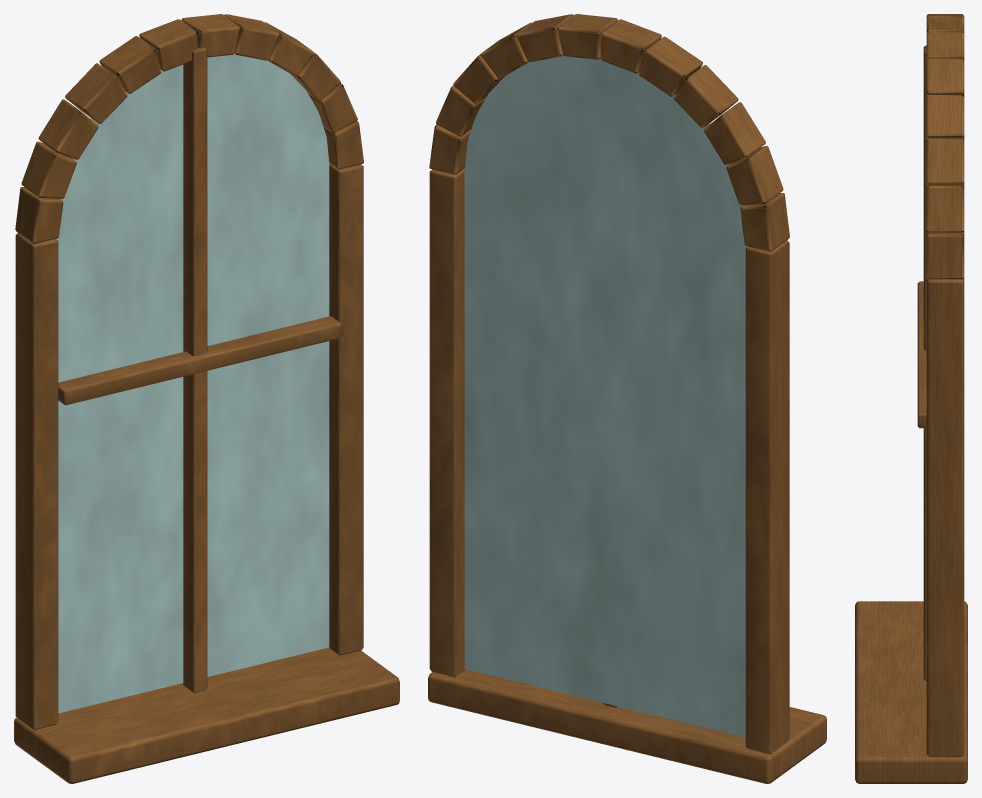
Rendered from Furn_Window.fbx.
3 views of the same model, side by side, from view 1: azimuth 30°, elevation 25°; view 2: azimuth 150°, elevation 25°; view 3: azimuth 270°, elevation 25° (orthographic). The views are drawn at different scales.
Parts seen in each view (by area): view 1: Furn_Window_Mesh; view 2: Furn_Window_Mesh; view 3: Furn_Window_Mesh.
Part boxes in pixels (x1=…): Furn_Window_Mesh: x1=14, y1=14, x2=399, y2=783; Furn_Window_Mesh: x1=428, y1=14, x2=826, y2=783; Furn_Window_Mesh: x1=855, y1=14, x2=967, y2=783.
Size of the model in its own units: 1 by 1.98 by 0.3.
